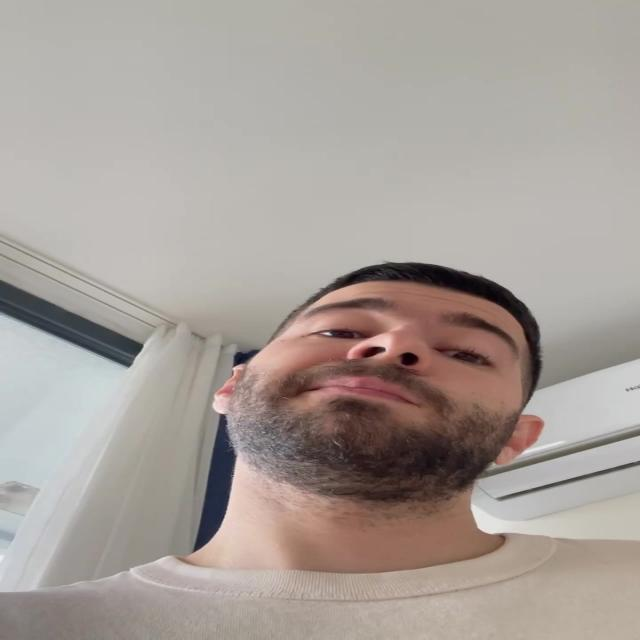earlobe: (490, 414, 544, 466), (211, 362, 249, 415)
